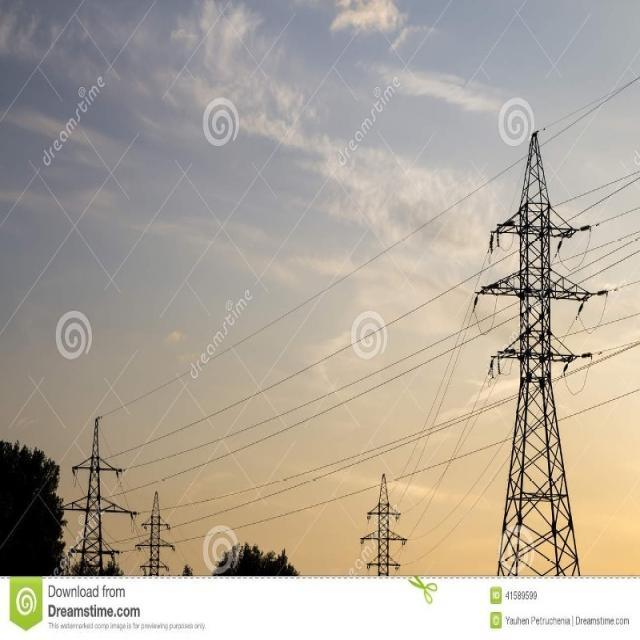non-critical vegetation: (467, 112, 600, 580), (66, 404, 116, 570), (364, 470, 401, 570), (132, 489, 174, 575)
